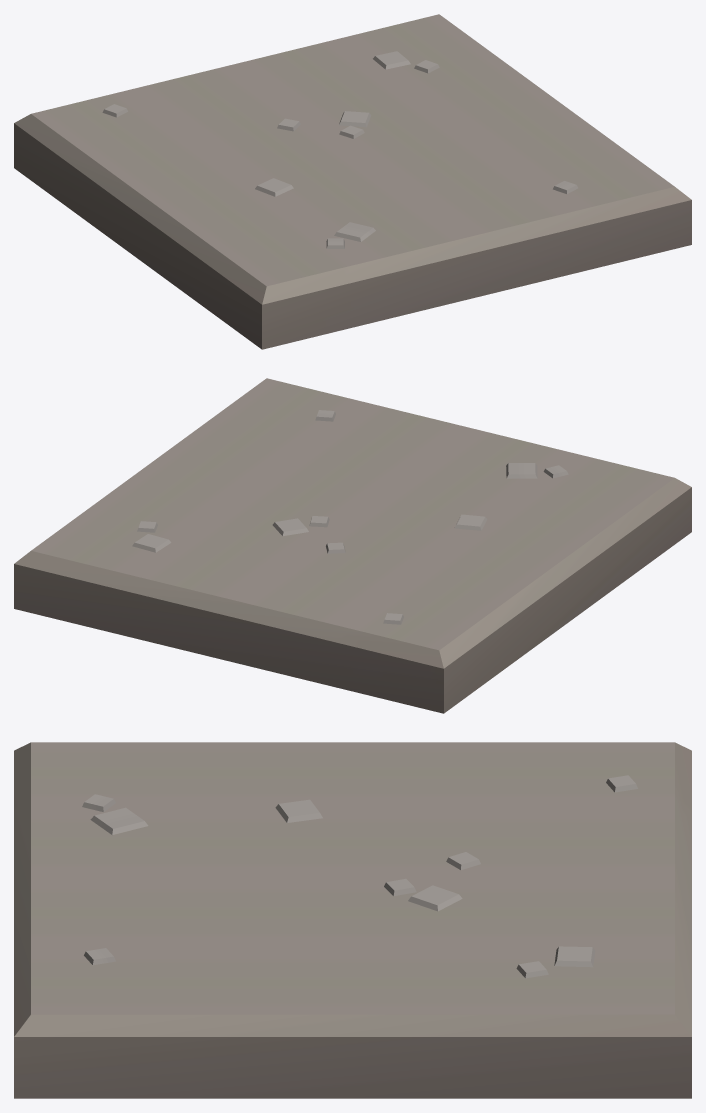
File: floor-dirt.glb
3 views of the same model, one above another, from view 1: azimuth 30°, elevation 25°; view 2: azimuth 150°, elevation 25°; view 3: azimuth 270°, elevation 25° (orthographic). The views are drawn at different scales.
Visible parts, largest first — view 1: floor_dirt; view 2: floor_dirt; view 3: floor_dirt.
Part boxes in pixels (box(x1,y1,x2,y2)): floor_dirt: box(14, 14, 691, 349); floor_dirt: box(14, 378, 691, 713); floor_dirt: box(14, 742, 691, 1098).
Bounding box in the file's own units: 4 × 0.5298 × 4.
1 material, 1 textured.
